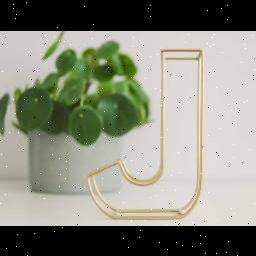j: (86, 35, 222, 221)
